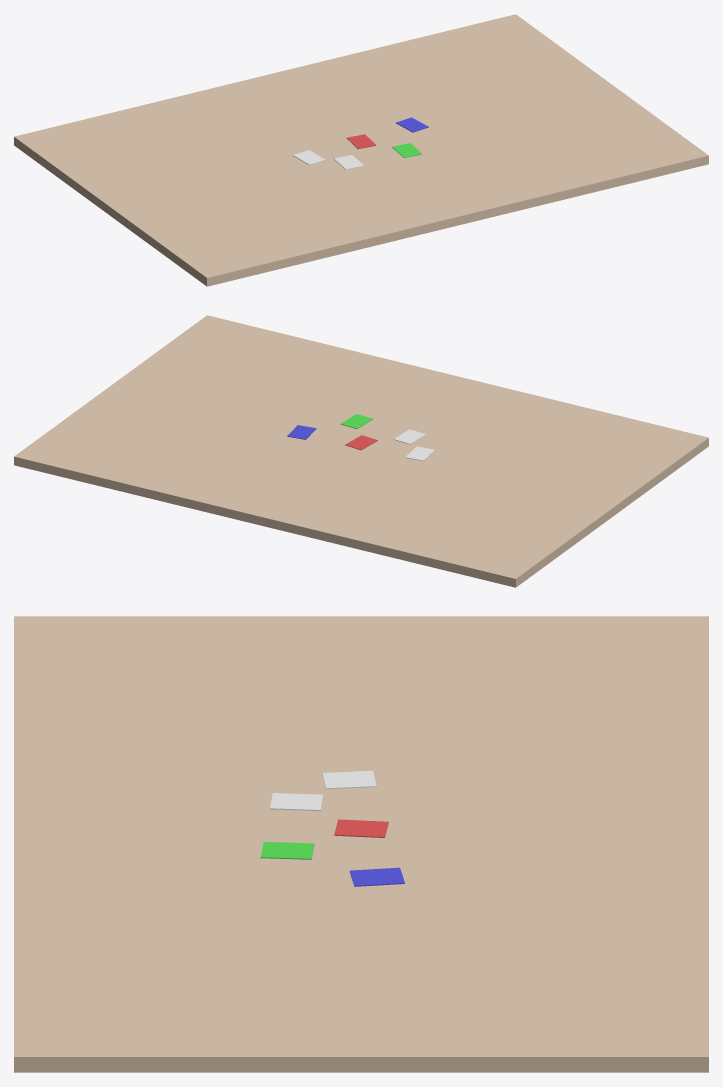
The model's file is mesa_referencia.glb.
3 views of the same model, one above another, from view 1: azimuth 30°, elevation 25°; view 2: azimuth 150°, elevation 25°; view 3: azimuth 270°, elevation 25° (orthographic). The views are drawn at different scales.
Visible parts, largest first — view 1: Mesa_Tablero; view 2: Mesa_Tablero; view 3: Mesa_Tablero, Carta_3, Carta_1, Carta_2, Carta_5, Carta_4.
Boxes of the visible parts, left/top/right/bottom form: Mesa_Tablero: left=14, top=14, right=708, bottom=286; Mesa_Tablero: left=14, top=315, right=708, bottom=587; Mesa_Tablero: left=14, top=616, right=708, bottom=1072; Carta_3: left=349, top=867, right=404, bottom=886; Carta_1: left=322, top=770, right=376, bottom=789; Carta_2: left=334, top=819, right=388, bottom=837; Carta_5: left=260, top=841, right=314, bottom=859; Carta_4: left=270, top=793, right=323, bottom=810.
Size of what is drawn, in the model's own units: 1.8 by 0.046 by 1.2.
